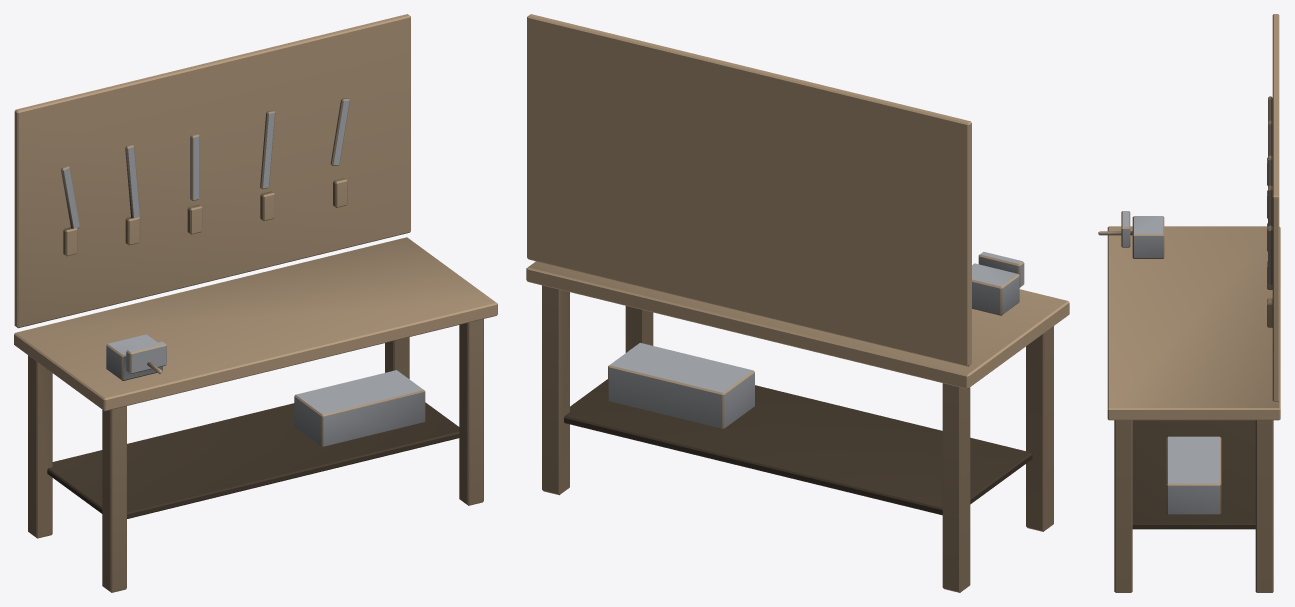
The model's file is workbench.glb.
The picture shows the model from 3 angles, left to right: view 1: azimuth 30°, elevation 25°; view 2: azimuth 150°, elevation 25°; view 3: azimuth 270°, elevation 25°; orthographic projection. The views are drawn at different scales.
Visible parts, largest first — view 1: workbench; view 2: workbench; view 3: workbench.
Part boxes in pixels (x1=…): workbench: x1=14, y1=14, x2=497, y2=592; workbench: x1=526, y1=14, x2=1069, y2=592; workbench: x1=1098, y1=14, x2=1280, y2=592.
Size of the model in its own units: 1.9 by 1.95 by 0.8.
